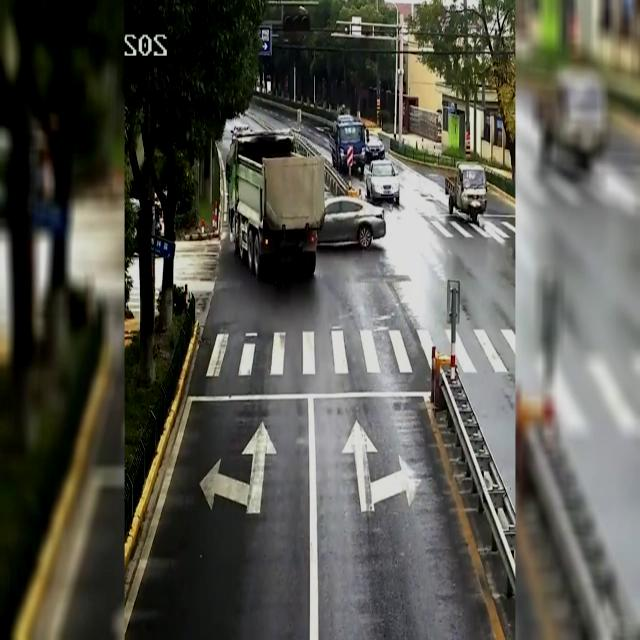accident: (227, 121, 383, 279)
non-accident: (334, 119, 402, 203)
